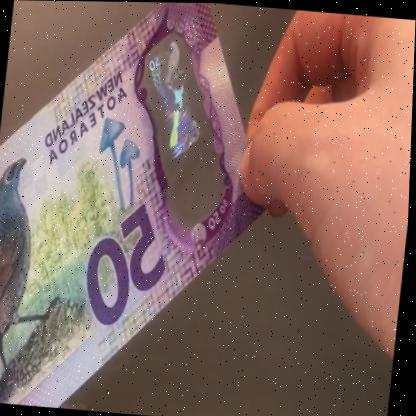50B: (133, 28, 219, 219)
